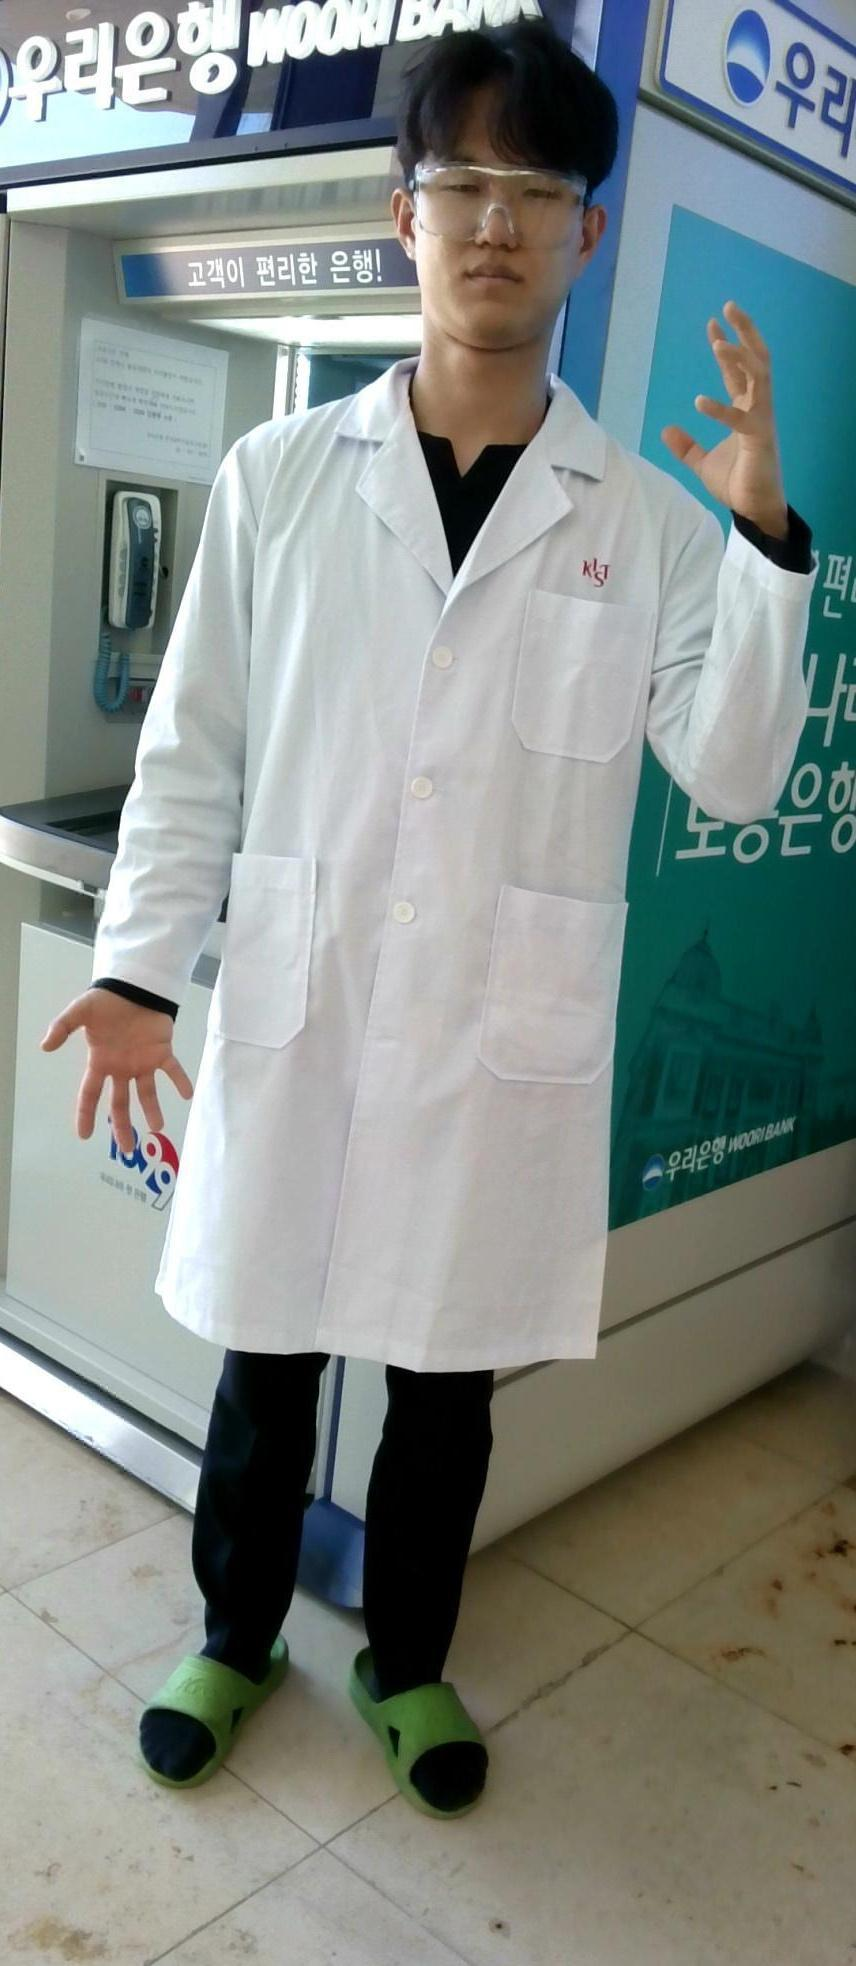lab_coat: (179, 491, 696, 1342)
